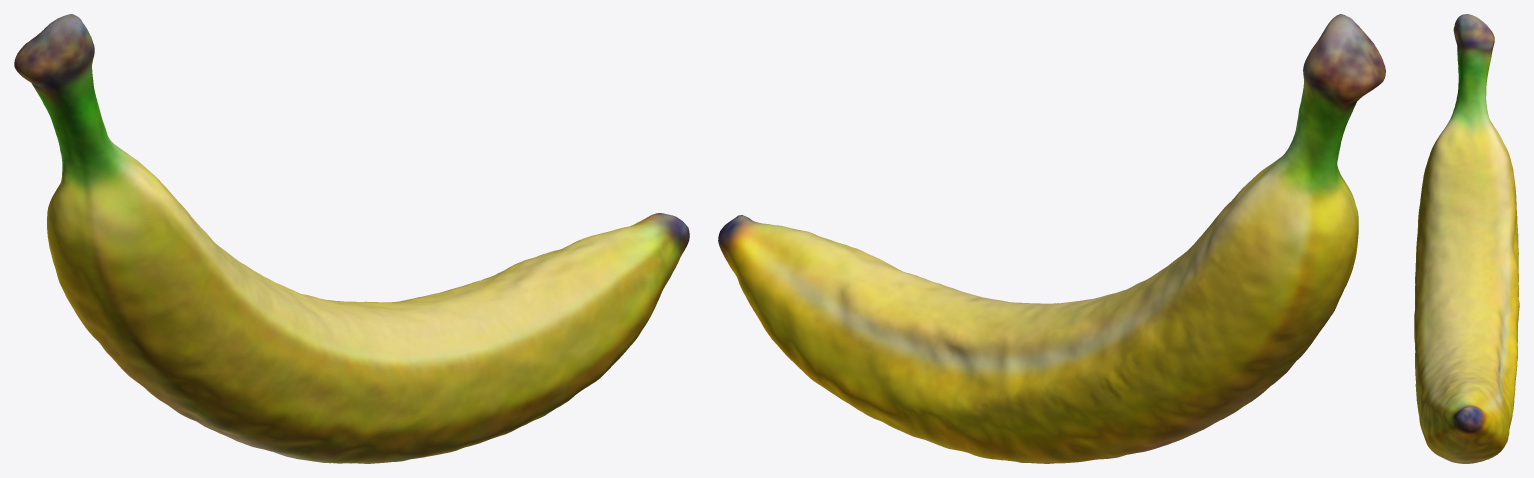
The model's file is a_big_banana_0713202637_preview.fbx.
The picture shows the model from 3 angles, left to right: view 1: azimuth 30°, elevation 25°; view 2: azimuth 150°, elevation 25°; view 3: azimuth 270°, elevation 25°; orthographic projection. The views are drawn at different scales.
Visible parts, largest first — view 1: Mesh1; view 2: Mesh1; view 3: Mesh1.
Boxes of the visible parts, x1,y1,x2,y2 form: Mesh1: (14,14,689,463); Mesh1: (718,14,1385,463); Mesh1: (1414,14,1519,463).
Size of the model in its own units: 120 by 89.59 by 26.81.
1 material, 1 textured.
